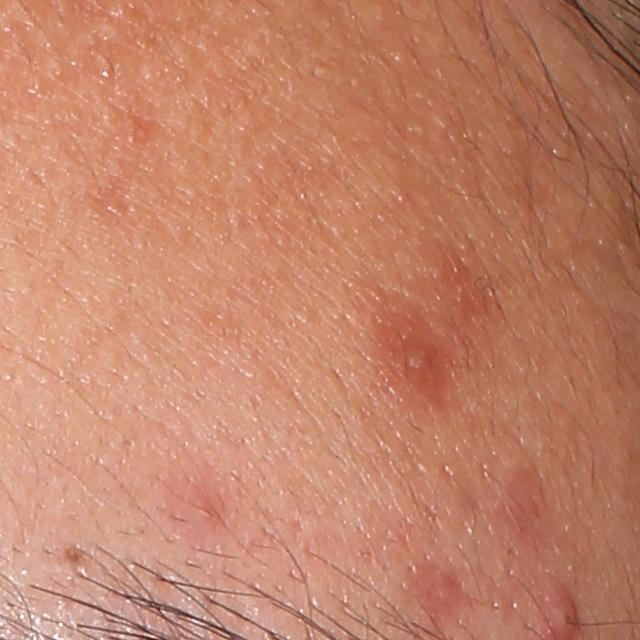nevus: (60, 543, 85, 569)
